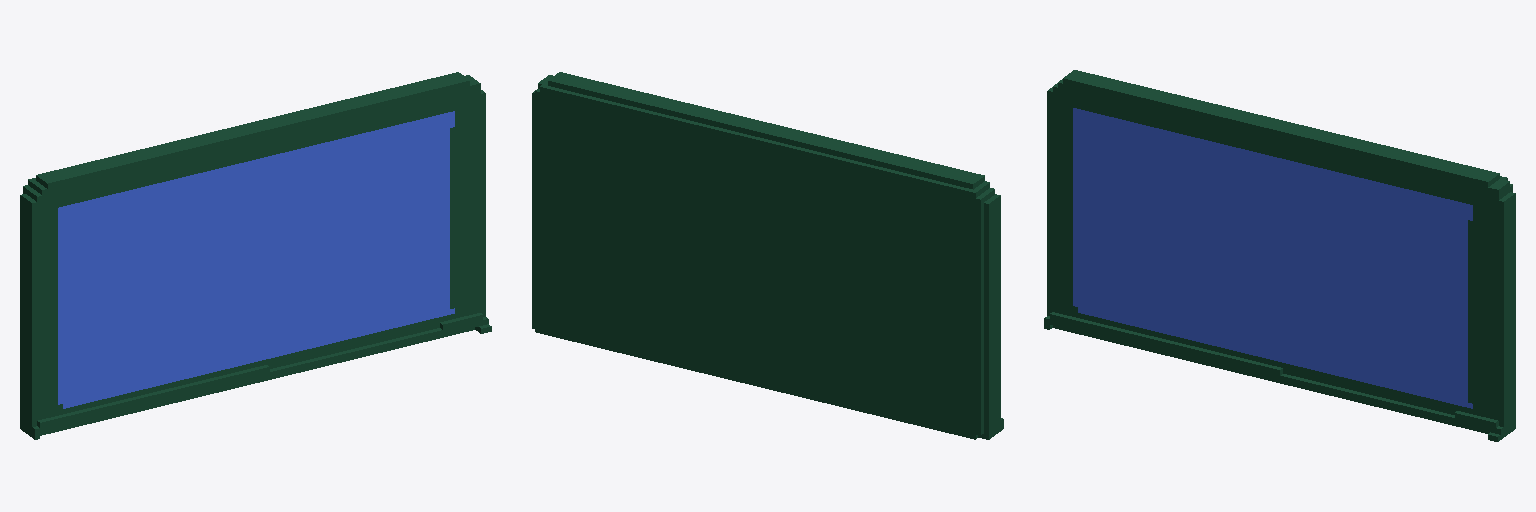
The robot description file, URDF, robot "physxnet_10015_strict":
<?xml version='1.0' encoding='utf-8'?>
<robot name="physxnet_10015_strict">
  <link name="l_world">
    <inertial>
      <origin xyz="0 0 0" rpy="0 0 0" />
      <mass value="0.0100000000" />
      <inertia ixx="0.0000001667" ixy="0.0" ixz="0.0" iyy="0.0000001667" iyz="0.0" izz="0.0000001667" />
    </inertial>
  </link><link name="l_0">
    <inertial>
      <origin xyz="-0.0016413523 0.1087852999 0.0016465622" rpy="0 0 0" />
      <mass value="0.0017843428" />
      <inertia ixx="0.0000033051" ixy="0.0" ixz="0.0" iyy="0.0000175996" iyz="0.0" izz="0.0000142948" />
    </inertial><visual>
      <origin xyz="0 0 0" rpy="0 0 0" />
      <geometry>
        <mesh filename="../rigid_visuals/part_000_visual.obj" scale="1 1 1" />
      </geometry><material name="mat_l_0">
        <color rgba="0.32548 0.48041 0.93131 1.00000" />
      </material>
    </visual><collision>
      <origin xyz="0 0 0" rpy="0 0 0" />
      <geometry>
        <mesh filename="part_000_collision.obj" scale="1 1 1" />
      </geometry>
    </collision>
  </link><joint name="joint_fixed_l_world_l_0" type="fixed">
    <parent link="l_world" />
    <child link="l_0" />
    <origin xyz="0 0 0" rpy="0 0 0" />
  </joint><link name="l_1">
    <inertial>
      <origin xyz="0.0000000000 0.1119028637 0.0035911776" rpy="0 0 0" />
      <mass value="0.0254343456" />
      <inertia ixx="0.0000728290" ixy="0.0" ixz="0.0" iyy="0.0003314516" iyz="0.0" izz="0.0002606619" />
    </inertial><visual>
      <origin xyz="0 0 0" rpy="0 0 0" />
      <geometry>
        <mesh filename="../rigid_visuals/part_001_visual.obj" scale="1 1 1" />
      </geometry><material name="mat_l_1">
        <color rgba="0.15447 0.35718 0.26453 1.00000" />
      </material>
    </visual><collision>
      <origin xyz="0 0 0" rpy="0 0 0" />
      <geometry>
        <mesh filename="part_001_collision.obj" scale="1 1 1" />
      </geometry>
    </collision>
  </link><joint name="joint_fixed_l_0_l_1" type="fixed">
    <parent link="l_0" />
    <child link="l_1" />
    <origin xyz="0 0 0" rpy="0 0 0" />
  </joint><link name="l_2">
    <inertial>
      <origin xyz="0.0000090870 -0.0077954240 -0.0902090734" rpy="0 0 0" />
      <mass value="0.0156635857" />
      <inertia ixx="0.0000692925" ixy="0.0" ixz="0.0" iyy="0.0001592833" iyz="0.0" izz="0.0002282697" />
    </inertial><visual>
      <origin xyz="0 0 0" rpy="0 0 0" />
      <geometry>
        <mesh filename="../rigid_visuals/part_002_visual.obj" scale="1 1 1" />
      </geometry><material name="mat_l_2">
        <color rgba="0.29417 0.82410 0.87988 1.00000" />
      </material>
    </visual><collision>
      <origin xyz="0 0 0" rpy="0 0 0" />
      <geometry>
        <mesh filename="part_002_collision.obj" scale="1 1 1" />
      </geometry>
    </collision>
  </link><joint name="joint_fixed_l_1_l_2" type="fixed">
    <parent link="l_1" />
    <child link="l_2" />
    <origin xyz="0 0 0" rpy="0 0 0" />
  </joint>
</robot>

--- Facts derived from the render (not from the file) ---
The picture shows the robot from 3 angles, left to right: view 1: azimuth 30°, elevation 25°; view 2: azimuth 150°, elevation 25°; view 3: azimuth 330°, elevation 25°; orthographic projection.
Robot: physxnet_10015_strict — 4 links, 3 joints (3 fixed); root link l_world; default pose: all joints at 0.
Visible links, largest first — view 1: l_0, l_1; view 2: l_1; view 3: l_0, l_1.
Boxes of the visible links, box(x1,y1,x2,y2) form: l_0: box(58, 111, 454, 408); l_1: box(20, 72, 491, 439); l_1: box(532, 72, 1003, 439); l_0: box(1073, 108, 1472, 408); l_1: box(1044, 70, 1515, 441).
Size in the robot's own frame: 0.356 by 0.028 by 0.188 metres.
Meshes: 3 distinct files referenced, 2 mesh visuals loaded (2 OBJ); not drawn: 1 (reference not matched to a file when rendering).
